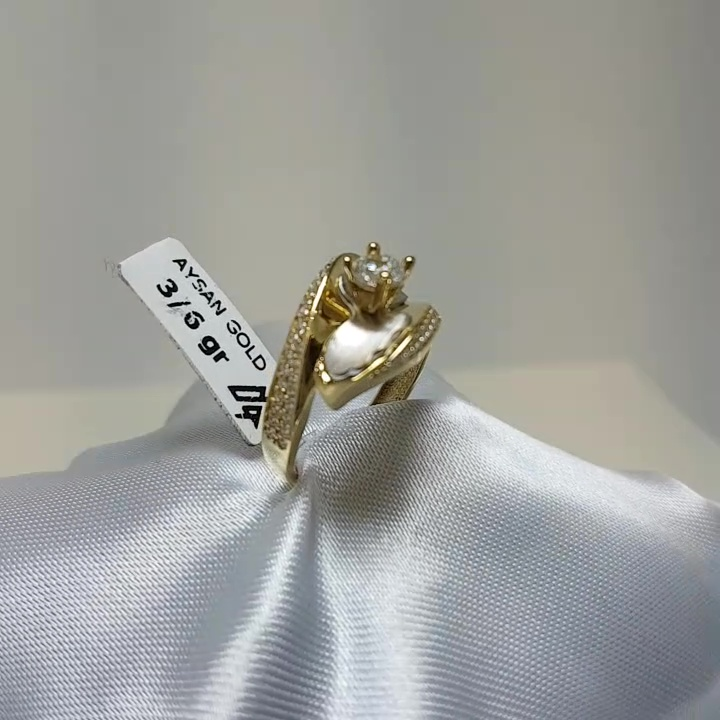Ring 6: (233, 221, 455, 491)
